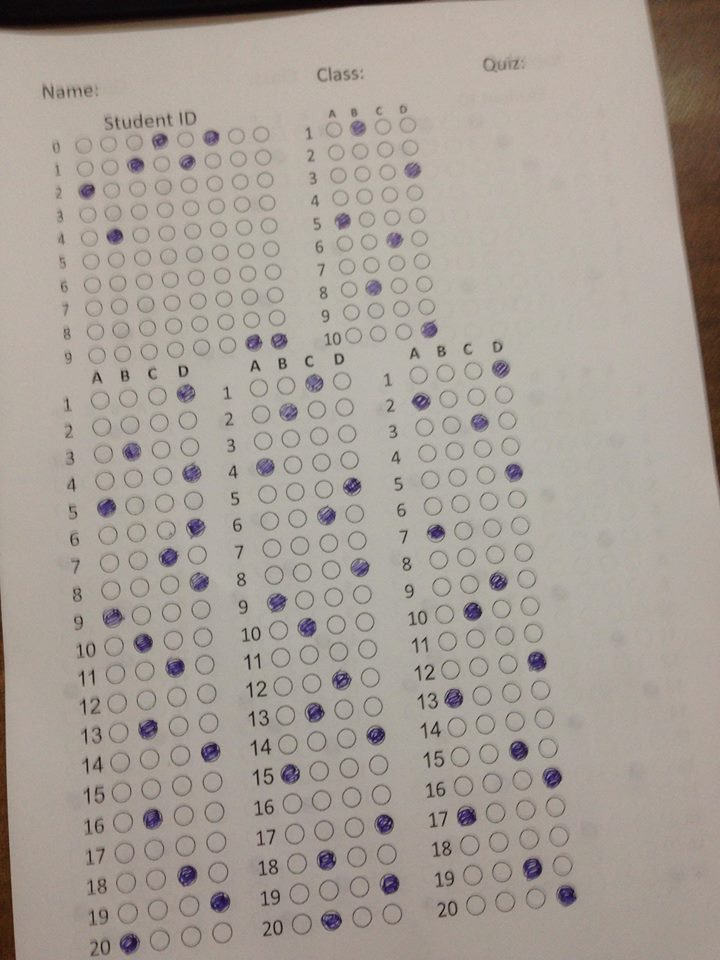not-c: (177, 893, 202, 920), (289, 911, 314, 937), (174, 833, 198, 859), (380, 902, 404, 928), (148, 927, 171, 954), (200, 770, 225, 794), (172, 804, 196, 829), (116, 901, 141, 925), (351, 904, 375, 929), (283, 821, 307, 846), (274, 703, 298, 728), (528, 678, 553, 702), (517, 827, 542, 851), (550, 854, 575, 878), (146, 898, 170, 922), (317, 878, 341, 902), (338, 756, 362, 780), (474, 712, 498, 736), (491, 861, 515, 885), (493, 890, 517, 914), (169, 744, 192, 769), (111, 811, 134, 836), (113, 840, 136, 865), (115, 870, 138, 895), (145, 867, 168, 892), (286, 851, 309, 876), (308, 759, 331, 784), (367, 753, 390, 778), (481, 771, 504, 796), (458, 833, 481, 858), (341, 785, 363, 811), (537, 735, 559, 761), (103, 634, 126, 658), (106, 691, 129, 715), (167, 714, 190, 738), (109, 750, 132, 774), (110, 782, 133, 806), (349, 875, 372, 899), (332, 698, 356, 721), (353, 610, 377, 633), (446, 715, 469, 739), (449, 744, 472, 768), (452, 774, 475, 798), (515, 798, 538, 822), (547, 825, 570, 849), (488, 830, 511, 854), (140, 777, 162, 802), (376, 842, 398, 867), (431, 575, 453, 600), (511, 768, 533, 793), (462, 864, 484, 889), (204, 800, 225, 826), (98, 551, 121, 574), (160, 601, 183, 624), (211, 922, 234, 945), (359, 666, 382, 689), (260, 537, 283, 560), (522, 622, 545, 645), (533, 707, 556, 730), (484, 800, 507, 823), (133, 660, 157, 682), (108, 721, 130, 745), (180, 926, 202, 950), (288, 882, 310, 906), (346, 845, 368, 869), (370, 783, 392, 807), (300, 672, 322, 696), (326, 613, 348, 637), (501, 681, 523, 705), (465, 893, 486, 918), (159, 573, 181, 596), (131, 604, 154, 626), (192, 626, 214, 649), (162, 629, 185, 651), (194, 653, 216, 676), (139, 748, 161, 771), (143, 839, 166, 861), (313, 819, 335, 842), (277, 733, 299, 756), (293, 589, 316, 611), (323, 587, 346, 609), (291, 562, 313, 585), (289, 535, 311, 558), (338, 449, 361, 471), (444, 441, 467, 463), (452, 520, 475, 542), (515, 569, 538, 591), (440, 659, 462, 682), (468, 657, 491, 679), (504, 710, 527, 732), (524, 888, 546, 911), (134, 690, 158, 711), (199, 711, 220, 735), (336, 726, 357, 750), (183, 490, 205, 512), (156, 519, 178, 541), (97, 524, 119, 546), (282, 793, 304, 815), (352, 584, 374, 606), (320, 559, 342, 581), (264, 564, 286, 586), (313, 478, 335, 500), (283, 454, 305, 476), (311, 451, 333, 473), (337, 423, 359, 445), (408, 364, 430, 386), (440, 414, 462, 436), (475, 465, 497, 487), (422, 495, 444, 517), (450, 493, 472, 515), (459, 573, 481, 595), (471, 685, 493, 707), (478, 743, 500, 765), (178, 436, 201, 457), (128, 549, 149, 572), (187, 544, 208, 567), (130, 576, 151, 599), (197, 681, 218, 704), (171, 775, 192, 798), (206, 831, 227, 854), (344, 816, 365, 839), (311, 789, 332, 812), (328, 641, 349, 664), (357, 639, 380, 660), (428, 548, 449, 571), (465, 627, 486, 650), (497, 653, 518, 676), (306, 729, 326, 753), (151, 466, 173, 487), (154, 493, 176, 514), (125, 495, 146, 517), (105, 663, 126, 685), (207, 862, 228, 884), (272, 675, 293, 697), (288, 508, 309, 530), (253, 430, 275, 451), (466, 386, 488, 407), (497, 410, 518, 432), (499, 435, 520, 457), (420, 469, 441, 491), (446, 467, 468, 488), (507, 489, 528, 511), (481, 518, 503, 539), (513, 542, 534, 564), (456, 547, 477, 569), (434, 603, 455, 625), (545, 796, 566, 818), (309, 425, 329, 448), (494, 383, 514, 406), (495, 624, 515, 647), (149, 412, 170, 433), (93, 444, 114, 465), (101, 580, 122, 601), (363, 696, 384, 717), (268, 620, 289, 641), (344, 503, 365, 524), (306, 399, 327, 420), (332, 371, 353, 392), (435, 363, 456, 384), (417, 443, 438, 464), (478, 492, 499, 513), (509, 516, 530, 537), (485, 544, 506, 565), (520, 595, 541, 616), (491, 599, 512, 620), (437, 631, 458, 652), (150, 440, 172, 460), (94, 471, 116, 491), (190, 599, 212, 619), (167, 686, 187, 708), (271, 647, 291, 669), (299, 644, 319, 666), (319, 532, 339, 554), (347, 530, 367, 552), (281, 428, 301, 450), (437, 389, 459, 409), (473, 439, 495, 459), (147, 386, 167, 407), (178, 410, 199, 430), (120, 415, 141, 435), (260, 510, 280, 531), (251, 404, 271, 425), (249, 378, 270, 398), (73, 136, 95, 155), (153, 178, 175, 197), (127, 179, 149, 198), (101, 181, 123, 200), (100, 158, 122, 177), (75, 159, 97, 178), (97, 135, 119, 154), (335, 396, 354, 418), (214, 289, 234, 309), (191, 338, 211, 358), (190, 314, 210, 334), (124, 469, 144, 489), (258, 484, 278, 504), (331, 188, 351, 208), (382, 208, 402, 228), (337, 257, 357, 277), (90, 391, 111, 410), (92, 417, 113, 436), (127, 522, 146, 543), (285, 482, 306, 501), (409, 229, 430, 248), (412, 252, 433, 271), (368, 324, 389, 343), (414, 418, 435, 437), (203, 150, 222, 170), (78, 205, 98, 224), (80, 228, 99, 248), (182, 222, 202, 241), (133, 248, 153, 267), (211, 243, 231, 262), (263, 262, 283, 281), (266, 285, 286, 304), (216, 313, 236, 332), (140, 343, 160, 362), (138, 319, 158, 338), (118, 389, 138, 408), (277, 376, 296, 396), (327, 143, 347, 162), (407, 207, 427, 226), (362, 256, 382, 275), (464, 361, 483, 381), (236, 242, 257, 260), (125, 133, 144, 152), (176, 130, 195, 149), (253, 148, 272, 167), (252, 125, 271, 144), (227, 127, 246, 146), (157, 224, 176, 243), (160, 247, 179, 266), (186, 245, 205, 264), (262, 239, 281, 258), (187, 269, 206, 288), (112, 321, 131, 340), (85, 299, 104, 318), (336, 234, 355, 253), (388, 254, 407, 273), (340, 280, 359, 299), (268, 309, 288, 327), (135, 273, 155, 291), (329, 167, 349, 185), (355, 188, 375, 206), (153, 154, 171, 173), (233, 196, 251, 215), (210, 221, 229, 239), (235, 219, 254, 237), (107, 252, 126, 270), (219, 337, 238, 355), (213, 267, 232, 285), (166, 341, 185, 359), (113, 345, 132, 363), (88, 347, 107, 365), (399, 115, 417, 134), (401, 139, 420, 157), (376, 140, 395, 158), (381, 185, 399, 204), (360, 233, 379, 251), (390, 277, 408, 296), (415, 276, 434, 294), (392, 300, 411, 318), (366, 302, 385, 320), (378, 163, 398, 180), (229, 150, 247, 168), (181, 177, 199, 195), (257, 171, 275, 189), (258, 194, 276, 212), (208, 198, 226, 216), (182, 200, 200, 218), (156, 201, 174, 219), (104, 204, 122, 222), (241, 288, 259, 306), (239, 265, 257, 283), (189, 292, 207, 310), (87, 323, 105, 341), (162, 270, 180, 288), (137, 295, 155, 313), (111, 297, 129, 315), (325, 121, 343, 139), (374, 118, 392, 136), (406, 184, 424, 202), (358, 211, 376, 229), (418, 299, 436, 317), (345, 327, 363, 345), (343, 304, 361, 322), (231, 173, 250, 190), (83, 252, 100, 271), (352, 142, 369, 161), (260, 217, 278, 234), (165, 317, 183, 334), (163, 295, 181, 312), (83, 277, 101, 294), (395, 324, 413, 341), (206, 175, 223, 192), (131, 203, 148, 220), (132, 227, 149, 244), (109, 275, 127, 291), (244, 312, 261, 328), (354, 166, 371, 182)
taken-c: (100, 606, 126, 631), (137, 715, 160, 743), (320, 908, 344, 934), (378, 872, 402, 897), (554, 883, 578, 908), (199, 739, 222, 765), (142, 806, 165, 832), (525, 649, 549, 673), (95, 495, 118, 520), (176, 863, 199, 888), (521, 856, 544, 881), (208, 890, 231, 914), (131, 630, 153, 655), (164, 655, 186, 680), (175, 381, 198, 404), (443, 686, 466, 709), (374, 811, 395, 836), (121, 440, 143, 463), (158, 545, 180, 568), (119, 931, 141, 954), (489, 357, 511, 380), (508, 740, 530, 763), (316, 848, 337, 872), (456, 804, 477, 828), (181, 462, 203, 484), (254, 456, 276, 478), (278, 401, 300, 423), (425, 522, 447, 544), (542, 766, 562, 790), (185, 518, 207, 539), (365, 724, 386, 746), (304, 702, 326, 723), (331, 670, 353, 691), (296, 616, 317, 638), (266, 592, 288, 613), (281, 763, 301, 786), (189, 572, 210, 593), (503, 463, 524, 484), (105, 225, 125, 247), (350, 556, 370, 578), (316, 504, 336, 526), (488, 570, 508, 592), (304, 373, 325, 393), (419, 320, 440, 340), (412, 391, 432, 412), (470, 412, 490, 433), (462, 602, 483, 622), (269, 331, 289, 351), (334, 211, 354, 231), (402, 161, 423, 180), (201, 127, 220, 147), (343, 476, 362, 496), (364, 278, 383, 298), (150, 132, 169, 151), (385, 230, 404, 249), (245, 334, 263, 354), (127, 157, 146, 175), (178, 154, 197, 172), (349, 120, 367, 138), (78, 182, 95, 200)
